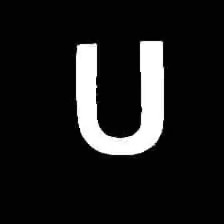LTR_U: (67, 31, 172, 163)
